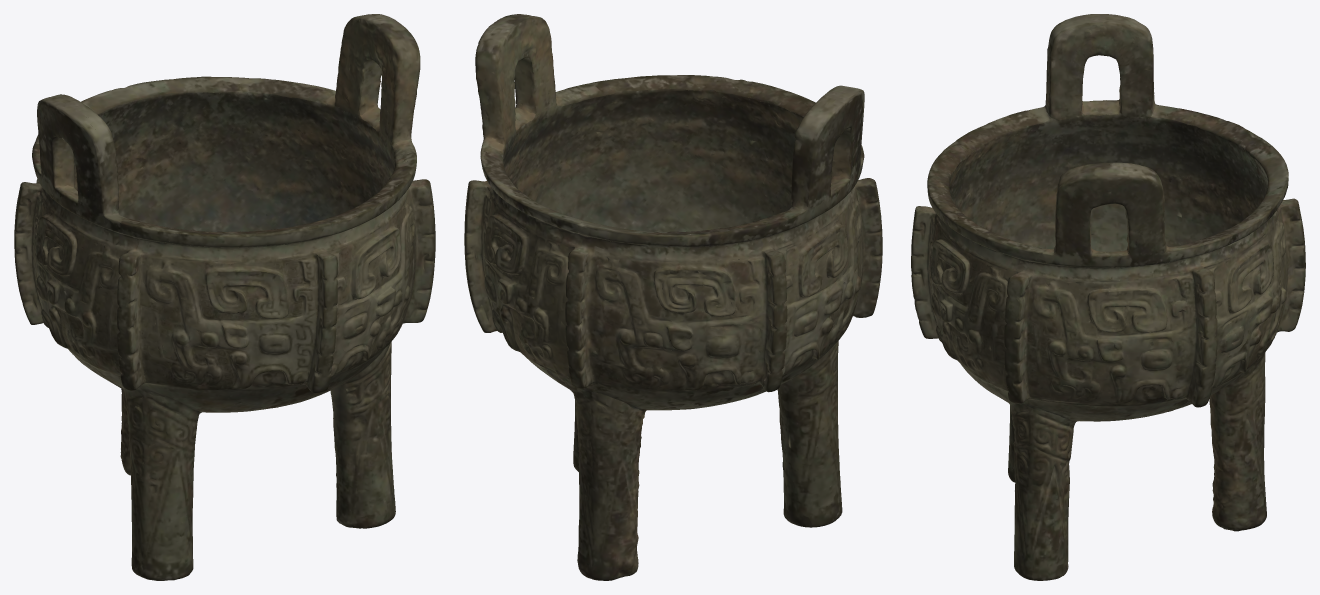
File: heluo-bronze-ding-v5.4.glb
3 views of the same model, side by side, from view 1: azimuth 30°, elevation 25°; view 2: azimuth 150°, elevation 25°; view 3: azimuth 270°, elevation 25° (orthographic). The views are drawn at different scales.
Parts seen in each view (by area): view 1: V5_4_CMA_CC0_Object_2, V5_4_CMA_CC0_Object_3, V5_4_CMA_CC0_Object_4; view 2: V5_4_CMA_CC0_Object_3, V5_4_CMA_CC0_Object_2, V5_4_CMA_CC0_Object_4; view 3: V5_4_CMA_CC0_Object_2, V5_4_CMA_CC0_Object_3, V5_4_CMA_CC0_Object_4.
Part boxes in pixels (<box>): V5_4_CMA_CC0_Object_2: <box>73,14,435,580</box>; V5_4_CMA_CC0_Object_3: <box>14,21,435,573</box>; V5_4_CMA_CC0_Object_4: <box>18,95,351,509</box>; V5_4_CMA_CC0_Object_3: <box>464,47,882,580</box>; V5_4_CMA_CC0_Object_2: <box>475,14,882,527</box>; V5_4_CMA_CC0_Object_4: <box>484,87,882,464</box>; V5_4_CMA_CC0_Object_2: <box>911,106,1268,580</box>; V5_4_CMA_CC0_Object_3: <box>911,14,1305,580</box>; V5_4_CMA_CC0_Object_4: <box>1015,15,1273,414</box>.
Size of the model in its own units: 1.29 by 1.62 by 1.34.
Materials: 1 (1 with a texture image).
